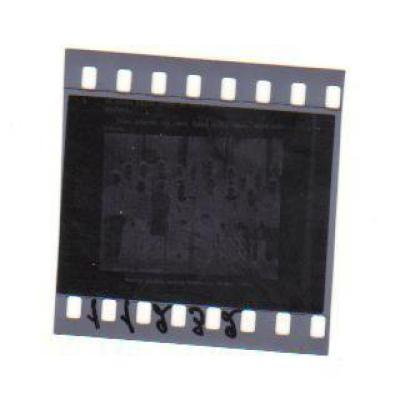photos_negatives: (67, 87, 334, 326)
